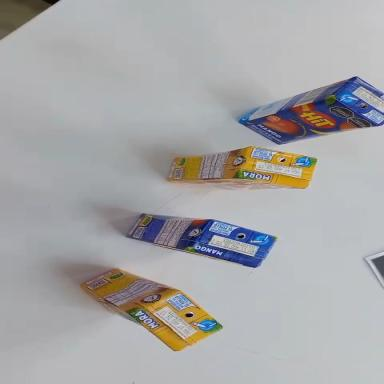HIT-MANGO: (235, 72, 384, 151), (127, 200, 277, 274)
HIT-MORA: (74, 249, 228, 365), (167, 146, 317, 188)
cara_F: (238, 89, 378, 152)
